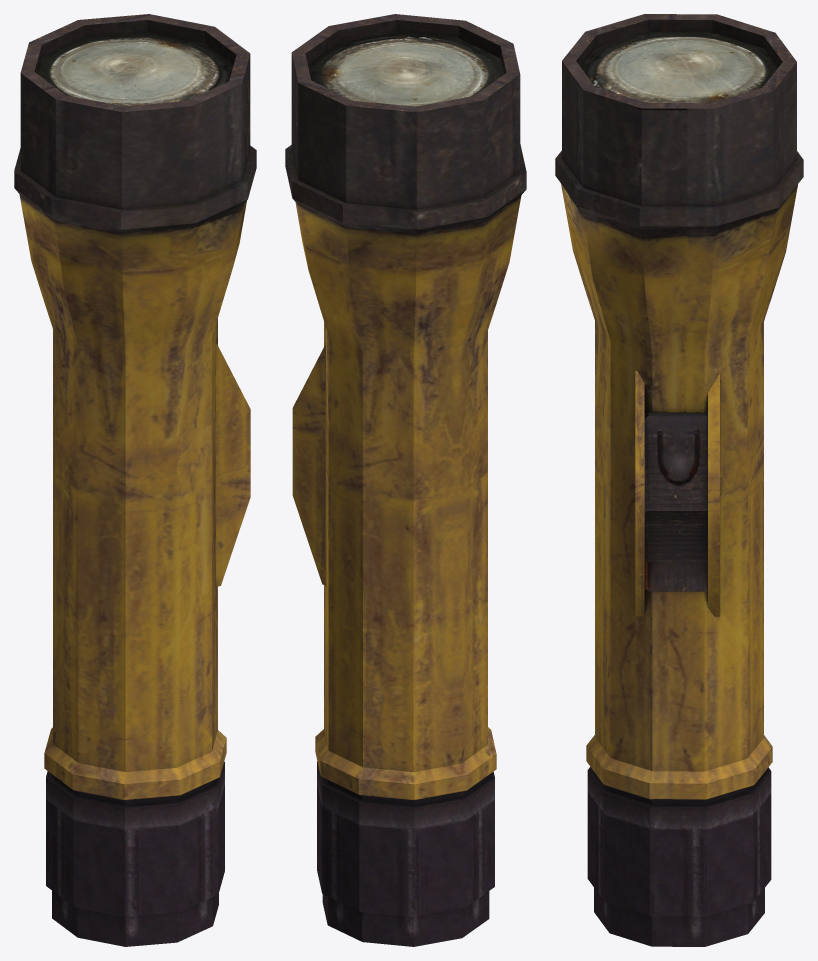
The model's file is Flashlight-1.fbx.
3 renders of one model, left to right at view 1: azimuth 30°, elevation 25°; view 2: azimuth 150°, elevation 25°; view 3: azimuth 270°, elevation 25°, orthographic.
Visible parts, largest first — view 1: Plane; view 2: Plane; view 3: Plane.
Boxes of the visible parts, box(x1,y1,x2,y2) form: Plane: box(14, 14, 256, 946); Plane: box(285, 14, 526, 946); Plane: box(555, 14, 803, 946).
Bounding box in the file's own units: 0.4592 × 1.82 × 0.4809.
